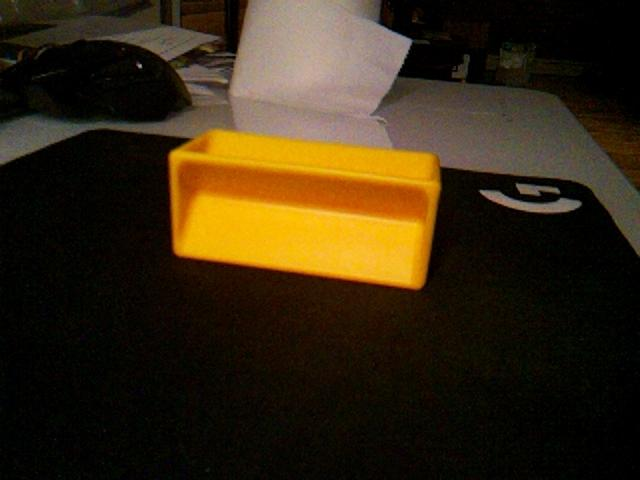yellow: (167, 127, 443, 292)
